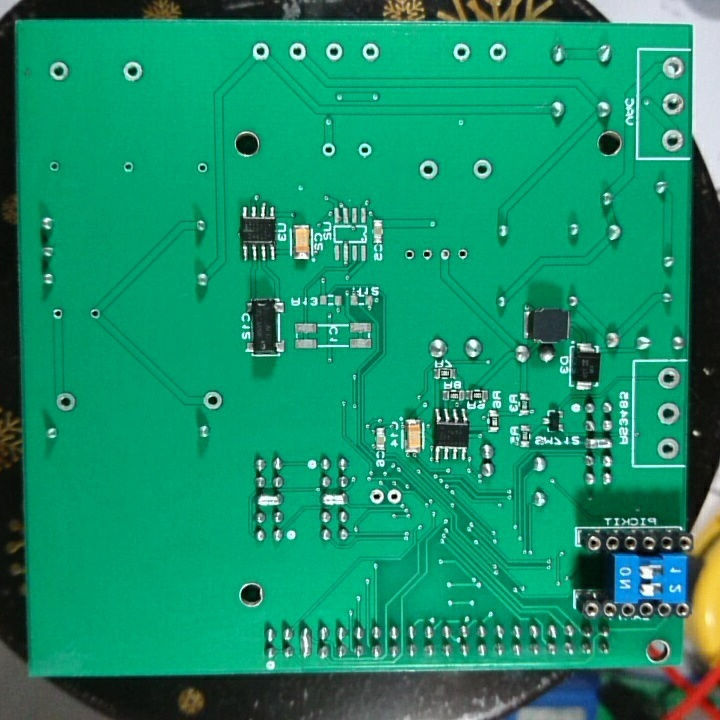F: (449, 38, 480, 66), (661, 124, 686, 156), (45, 58, 74, 85), (656, 364, 681, 394), (658, 53, 685, 80), (661, 89, 687, 116), (53, 389, 80, 415), (656, 434, 680, 463), (470, 157, 496, 183), (656, 400, 681, 427), (120, 58, 145, 85), (249, 40, 274, 66), (416, 157, 441, 183), (323, 38, 347, 65), (285, 40, 309, 66), (359, 39, 383, 63), (485, 40, 509, 64), (200, 389, 225, 412), (385, 486, 406, 509), (320, 138, 339, 160), (367, 488, 387, 508), (356, 140, 373, 160), (455, 246, 472, 265), (121, 158, 136, 178), (47, 158, 63, 176), (419, 245, 434, 264), (195, 160, 211, 177), (436, 247, 453, 263), (87, 306, 102, 322), (50, 306, 65, 321), (403, 247, 417, 263)
P: (583, 433, 615, 454), (253, 491, 286, 511), (299, 623, 315, 661), (319, 491, 351, 509)
